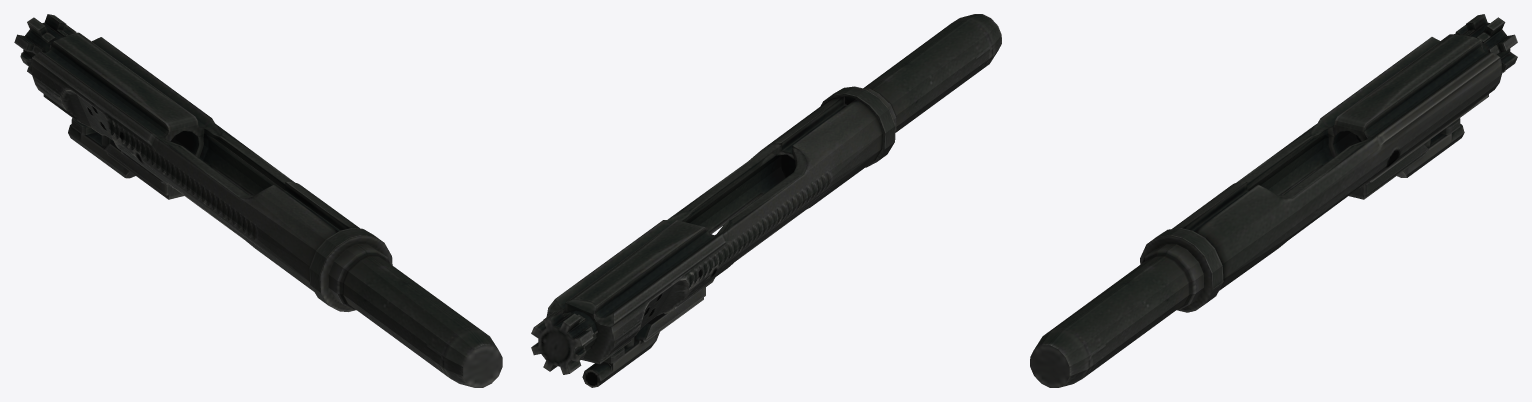
The picture shows the model from 3 angles, left to right: view 1: azimuth 30°, elevation 25°; view 2: azimuth 150°, elevation 25°; view 3: azimuth 330°, elevation 25°; orthographic projection. The views are drawn at different scales.
Visible parts, largest first — view 1: TW_5447a9cd4bdc2dbd208b4567_PZ_Import; view 2: TW_5447a9cd4bdc2dbd208b4567_PZ_Import; view 3: TW_5447a9cd4bdc2dbd208b4567_PZ_Import.
Boxes of the visible parts, bbox=[...] form: TW_5447a9cd4bdc2dbd208b4567_PZ_Import: bbox=[14, 14, 502, 387]; TW_5447a9cd4bdc2dbd208b4567_PZ_Import: bbox=[531, 14, 1001, 387]; TW_5447a9cd4bdc2dbd208b4567_PZ_Import: bbox=[1030, 14, 1517, 387].
Size of the model in its own units: 0.0146 by 0.1534 by 0.0204.
Materials: 1 (1 with a texture image).
